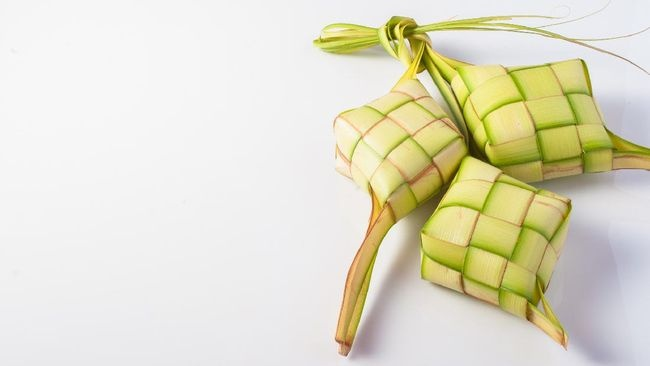ketupat: (419, 157, 572, 319), (446, 56, 614, 183), (332, 75, 471, 222)
